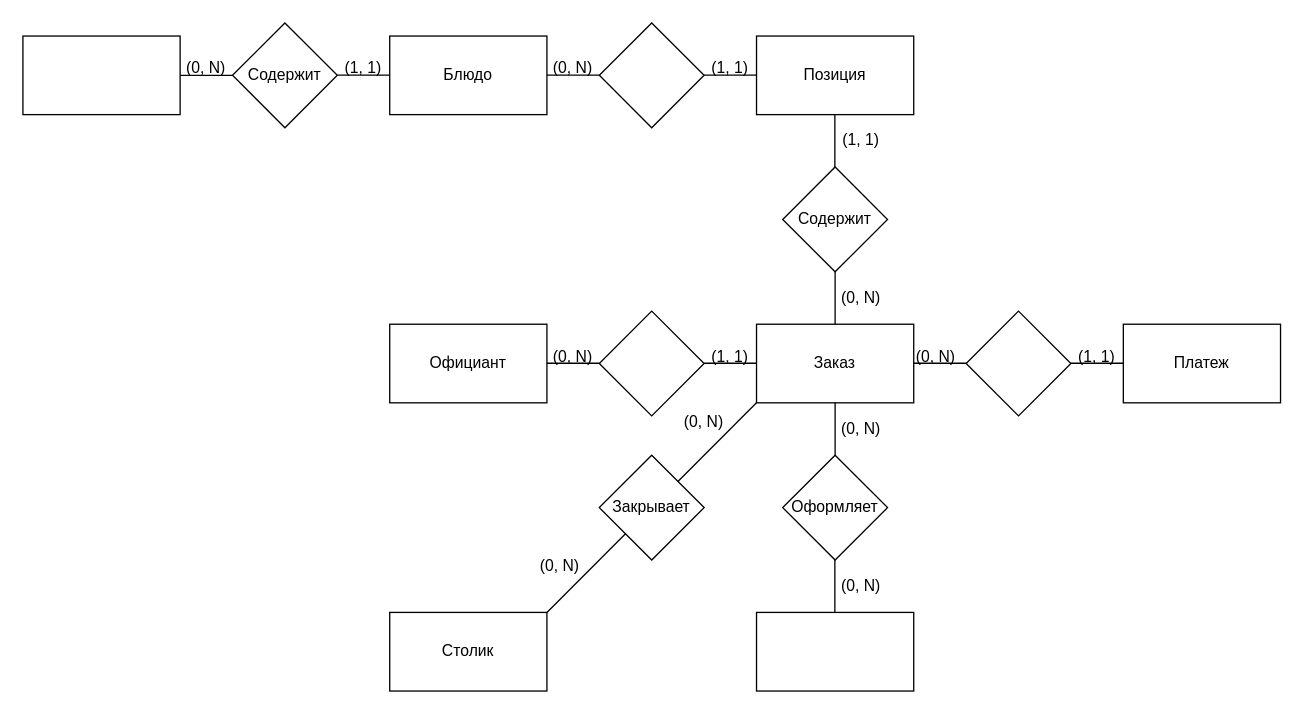
This 1303x714 diagram has some shape labels left out. Each missing label, with the box of its shape:
Включает в себя: (598, 22, 704, 128)
Гость: (755, 611, 914, 691)
Категория: (22, 35, 180, 115)
Обеспечаивается: (965, 310, 1071, 416)
Принимает: (598, 310, 704, 416)
